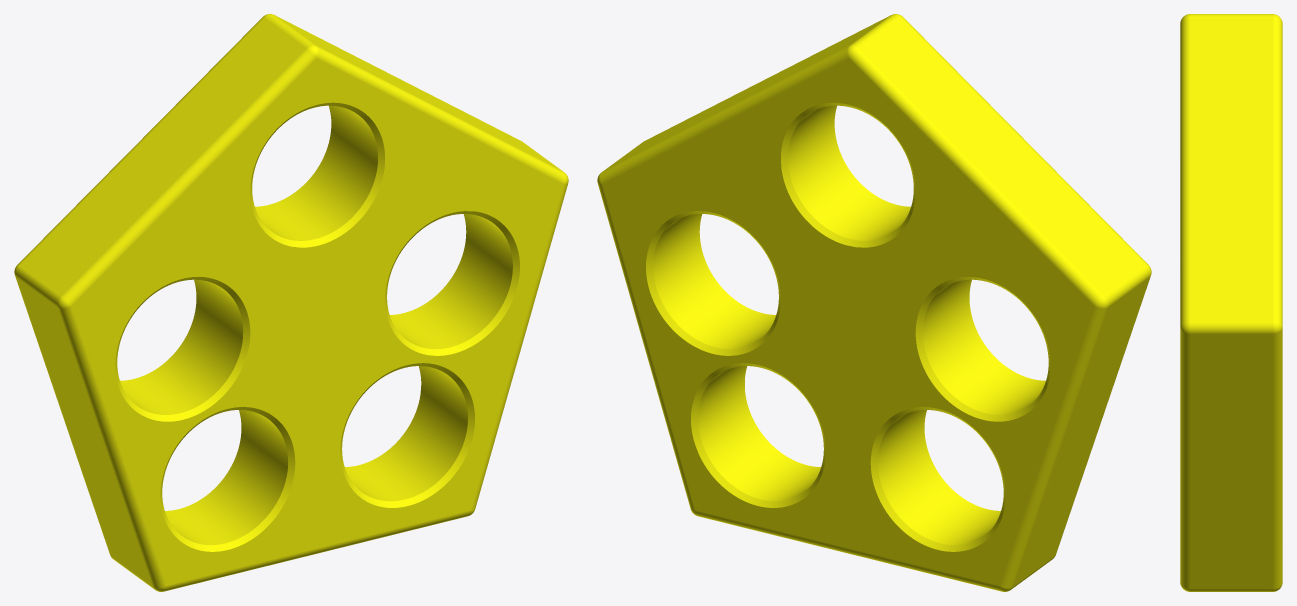
File: toy_five_insertion_five.obj
3 renders of one model, left to right at view 1: azimuth 30°, elevation 25°; view 2: azimuth 150°, elevation 25°; view 3: azimuth 270°, elevation 25°, orthographic.
Bounding box in the file's own units: 0.0567 × 0.0541 × 0.01.
